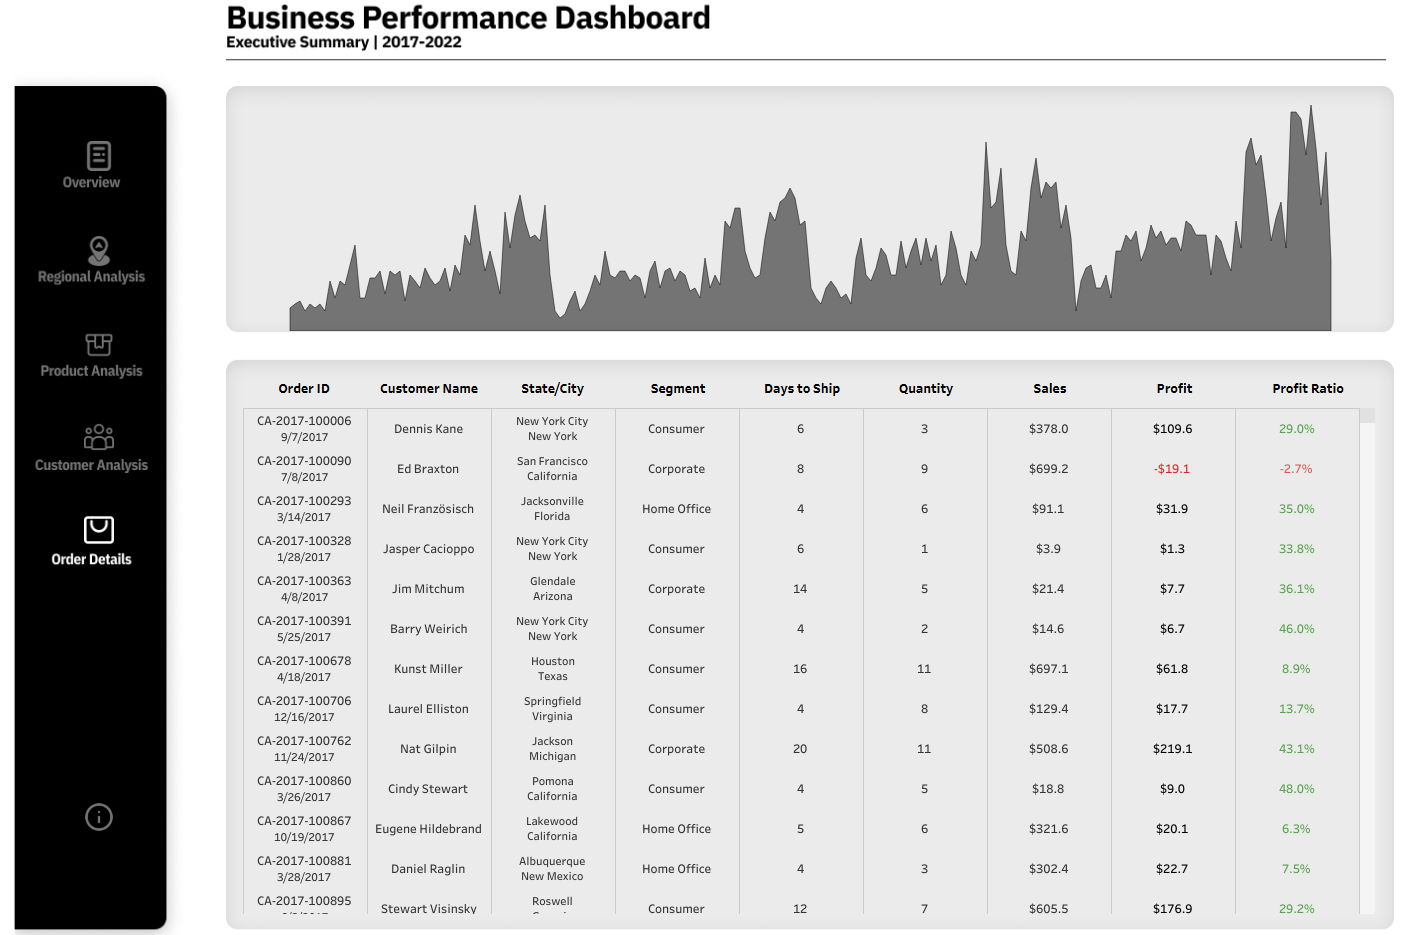

What the dashboard file says about the page in this screenshot:
{"tool":"tableau","page":{"name":"Order Details","canvas":[1440,1024],"ordinal":1},"visuals":[{"type":"image","param":"Image/Dashboard BG-4.png","box":[0,0,1440,1024]},{"type":"worksheet","title":"Weekly Order Trend","mark":"Area","rows":["Order ID"],"cols":["Order Date"],"box":[229,132,1145,239]},{"type":"dashboard-object","box":[75,183,30,30]},{"type":"dashboard-object","box":[75,276,30,30]},{"type":"dashboard-object","box":[75,369,30,30]},{"type":"text","box":[230,406,130,41]},{"type":"text","box":[360,406,120,41]},{"type":"text","box":[480,406,127,41]},{"type":"text","box":[607,406,124,41]},{"type":"text","box":[731,406,124,41]},{"type":"text","box":[855,406,124,41]},{"type":"text","box":[979.1,406,124,41]},{"type":"text","box":[1103.1,406,125,41]},{"type":"text","box":[1228.1,406,141.9,41]},{"type":"worksheet","title":"Ordere Details","mark":"Text","rows":["Order ID"],"cols":["Calculation_1303510664087359492","Calculation_1303510664087359492","Calculation_1303510664087359492","Calculation_1303510664087359492","Calculation_1303510664087359492","Calculation_1303510664087359492","Calculation_1303510664087359492","Calculation_1303510664087359492","Calculation_1303510664087359492"],"box":[230,444,1143,514]},{"type":"dashboard-object","box":[75,462,30,30]},{"type":"image","param":"Image/shopping-bag.png","box":[75,555,30,30]},{"type":"text","box":[111,768,402,134]},{"type":"dashboard-object","box":[75,842,30,30]}]}

Visuals, with their boxes on the page's 1440x1024 design canvas (x1, y1, x2, y2). These are canvas units, not pixel positions in the 1406x935 screenshot, which may show the page scaled, cropped or inside an application window:
image: bbox(0, 0, 1440, 1024)
"Weekly Order Trend" worksheet (Area marks): bbox(229, 132, 1374, 371)
dashboard-object: bbox(75, 183, 105, 213)
dashboard-object: bbox(75, 276, 105, 306)
dashboard-object: bbox(75, 369, 105, 399)
text: bbox(230, 406, 360, 447)
text: bbox(360, 406, 480, 447)
text: bbox(480, 406, 607, 447)
text: bbox(607, 406, 731, 447)
text: bbox(731, 406, 855, 447)
text: bbox(855, 406, 979, 447)
text: bbox(979, 406, 1103, 447)
text: bbox(1103, 406, 1228, 447)
text: bbox(1228, 406, 1370, 447)
"Ordere Details" worksheet (Text marks): bbox(230, 444, 1373, 958)
dashboard-object: bbox(75, 462, 105, 492)
image: bbox(75, 555, 105, 585)
text: bbox(111, 768, 513, 902)
dashboard-object: bbox(75, 842, 105, 872)
